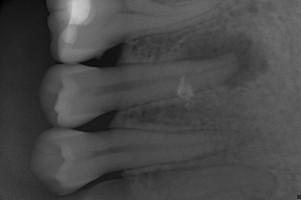Furcation Involvement: (178, 31, 269, 87)
